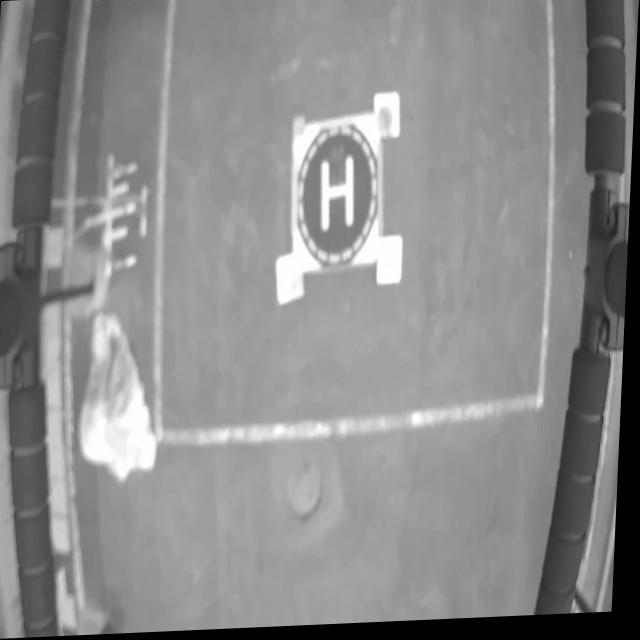Helipad: (321, 157, 355, 232)
